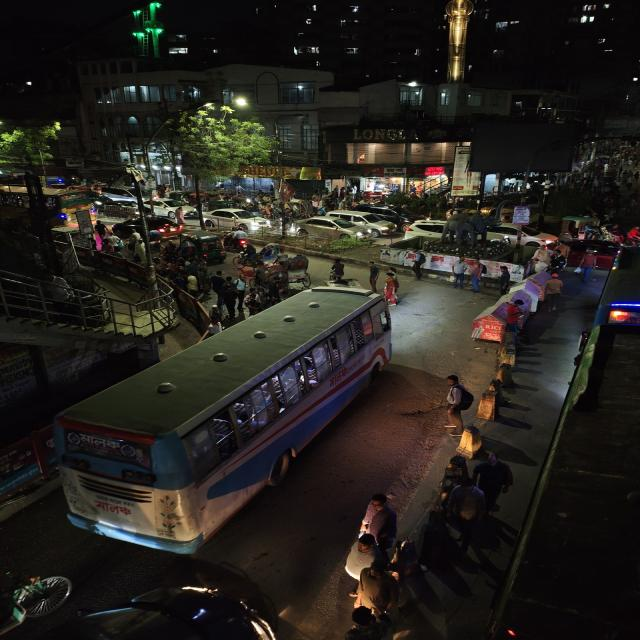bus: (49, 284, 398, 556), (0, 336, 47, 515), (593, 244, 640, 340)
car: (290, 213, 359, 243), (111, 215, 185, 242), (203, 205, 274, 233), (350, 210, 395, 239), (151, 199, 192, 217), (523, 230, 557, 250)
cng: (184, 232, 228, 266)
motorcycle: (226, 224, 253, 252)
pedestrian: (438, 370, 474, 434), (354, 494, 397, 547), (340, 536, 376, 573), (502, 300, 531, 339), (540, 276, 567, 312), (220, 282, 244, 318), (326, 255, 350, 285), (382, 268, 401, 304), (466, 260, 485, 293), (365, 260, 383, 292), (496, 264, 515, 294)
rickshaw: (279, 253, 316, 289)
